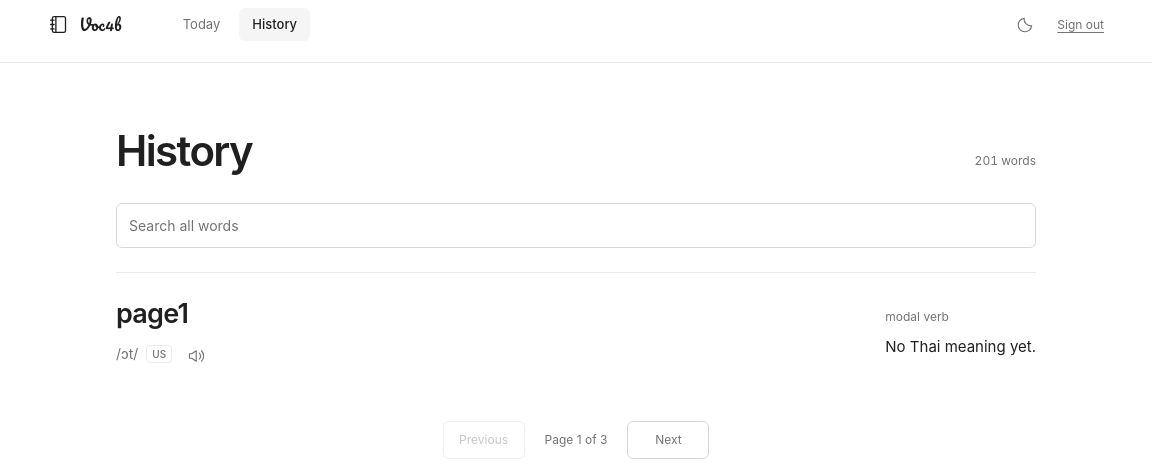
Test: searches the entire History collection and starts results on page one
Expected: the heading "page1" is shown, [116,297,188,330]
Click the button "Next".
click(668, 440)  # box [627,421,709,459]
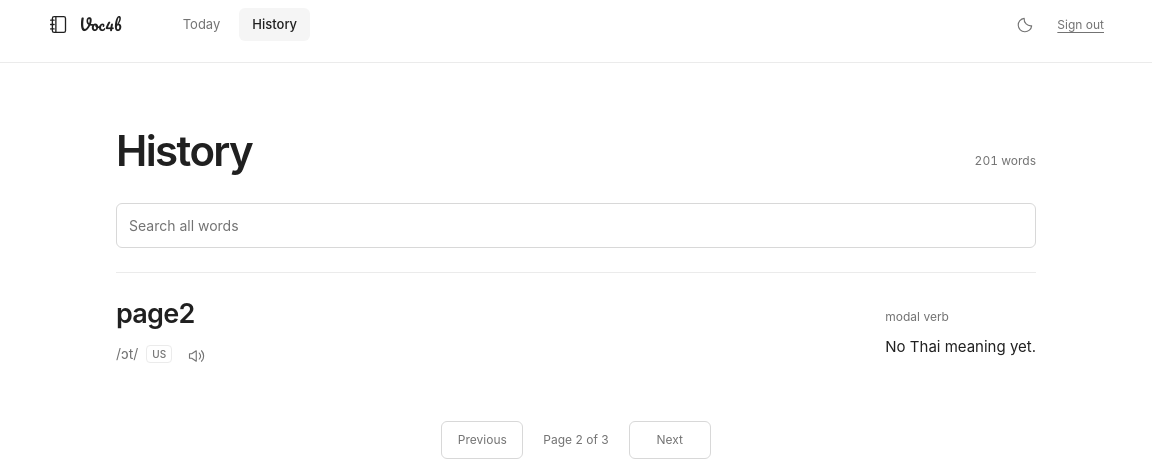
Expected: the heading "page2" is shown, [116,297,194,330]
Type "rescind" into the search field named "Search words".
click(576, 226); type("rescind")  # box [116,203,1036,248]
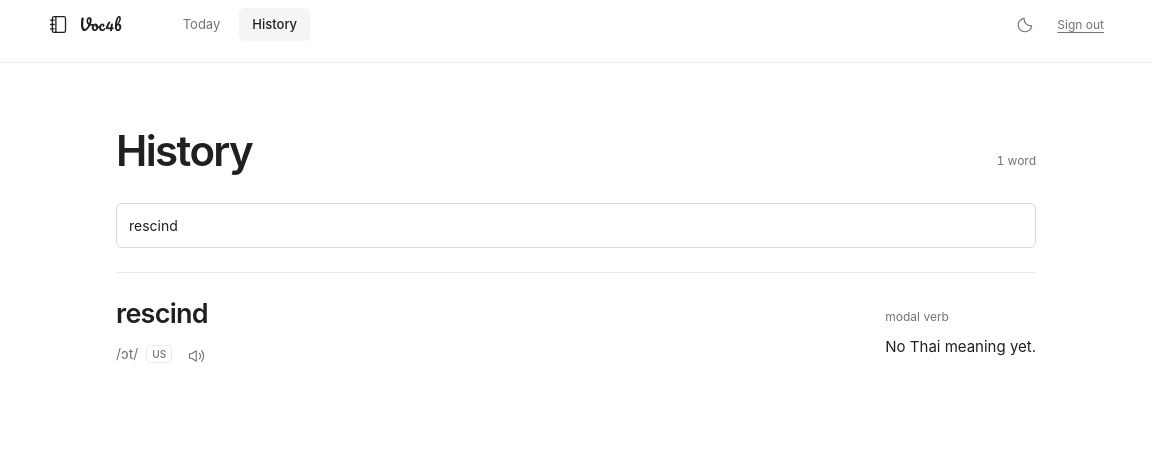
Expected: the text "1 word" is shown, [996,150,1036,175]
Expected: the heading "rescind" is shown, [116,297,208,330]
Expected: the button "Next" is gone
